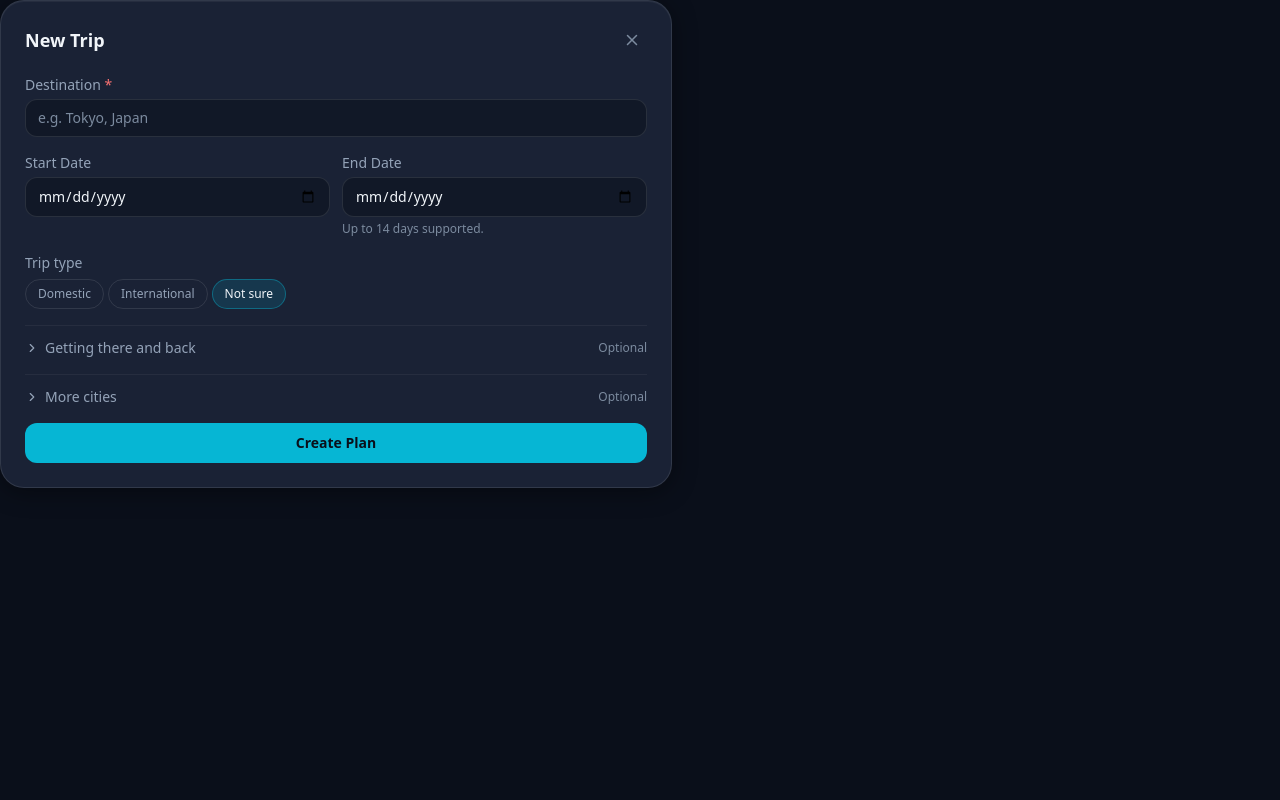
Scenario: NewPlanModal › shows validation error when destination is empty
Click the button with test id "create-plan-btn" at (336, 443), box [25,423,647,463]
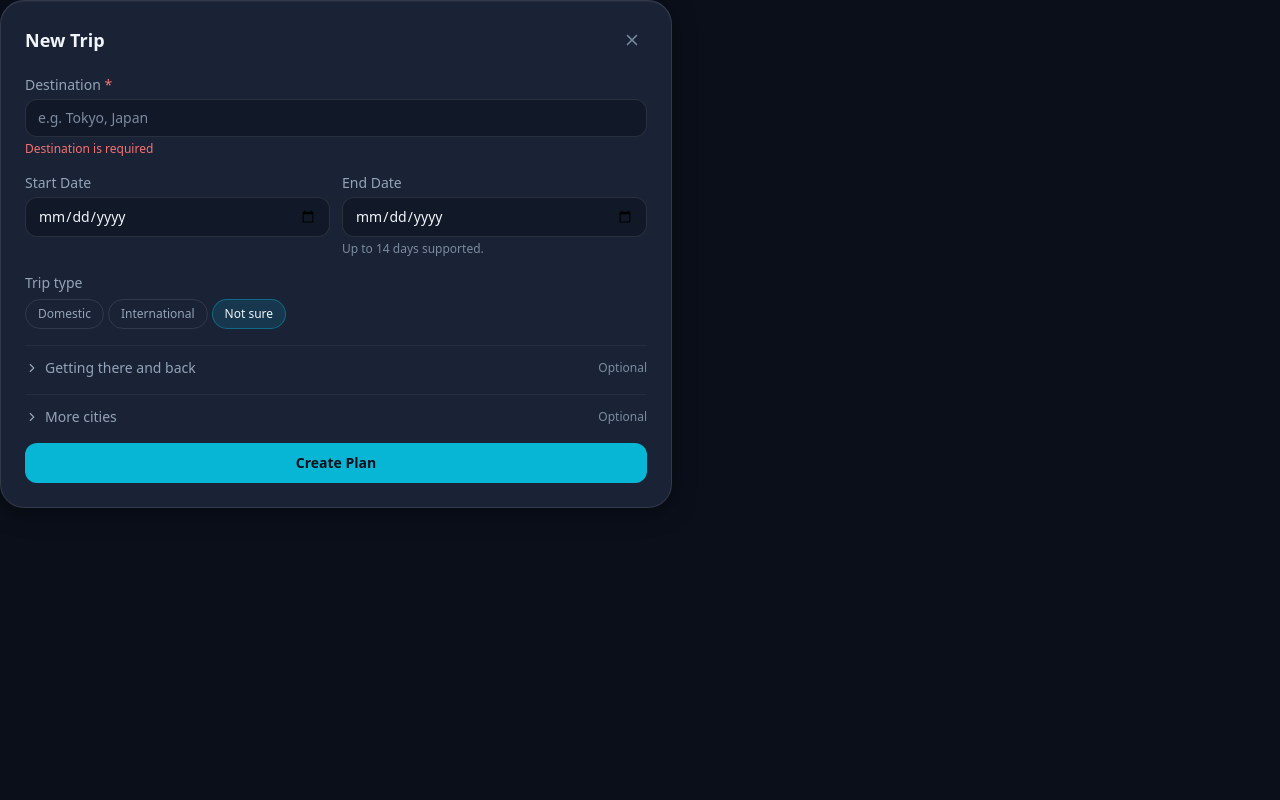
Expected: the message reads "Destination is required", [25,140,153,157]
